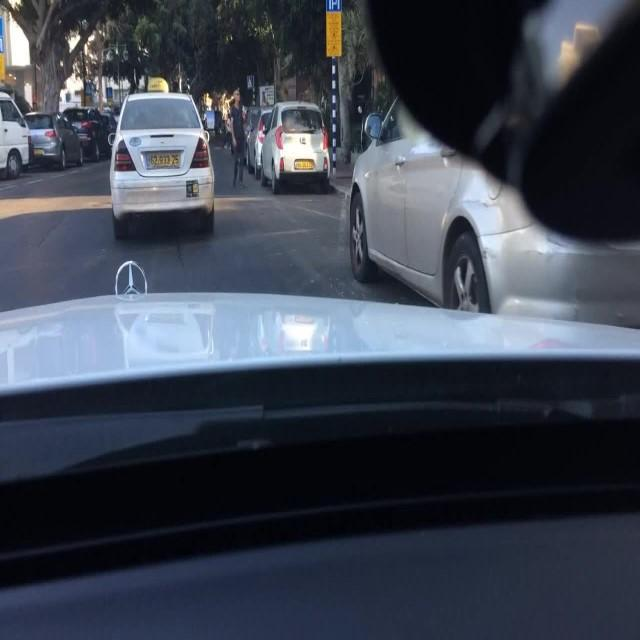normal: (109, 91, 217, 238), (254, 101, 333, 194), (24, 112, 86, 171), (0, 90, 32, 178), (61, 108, 112, 162)
